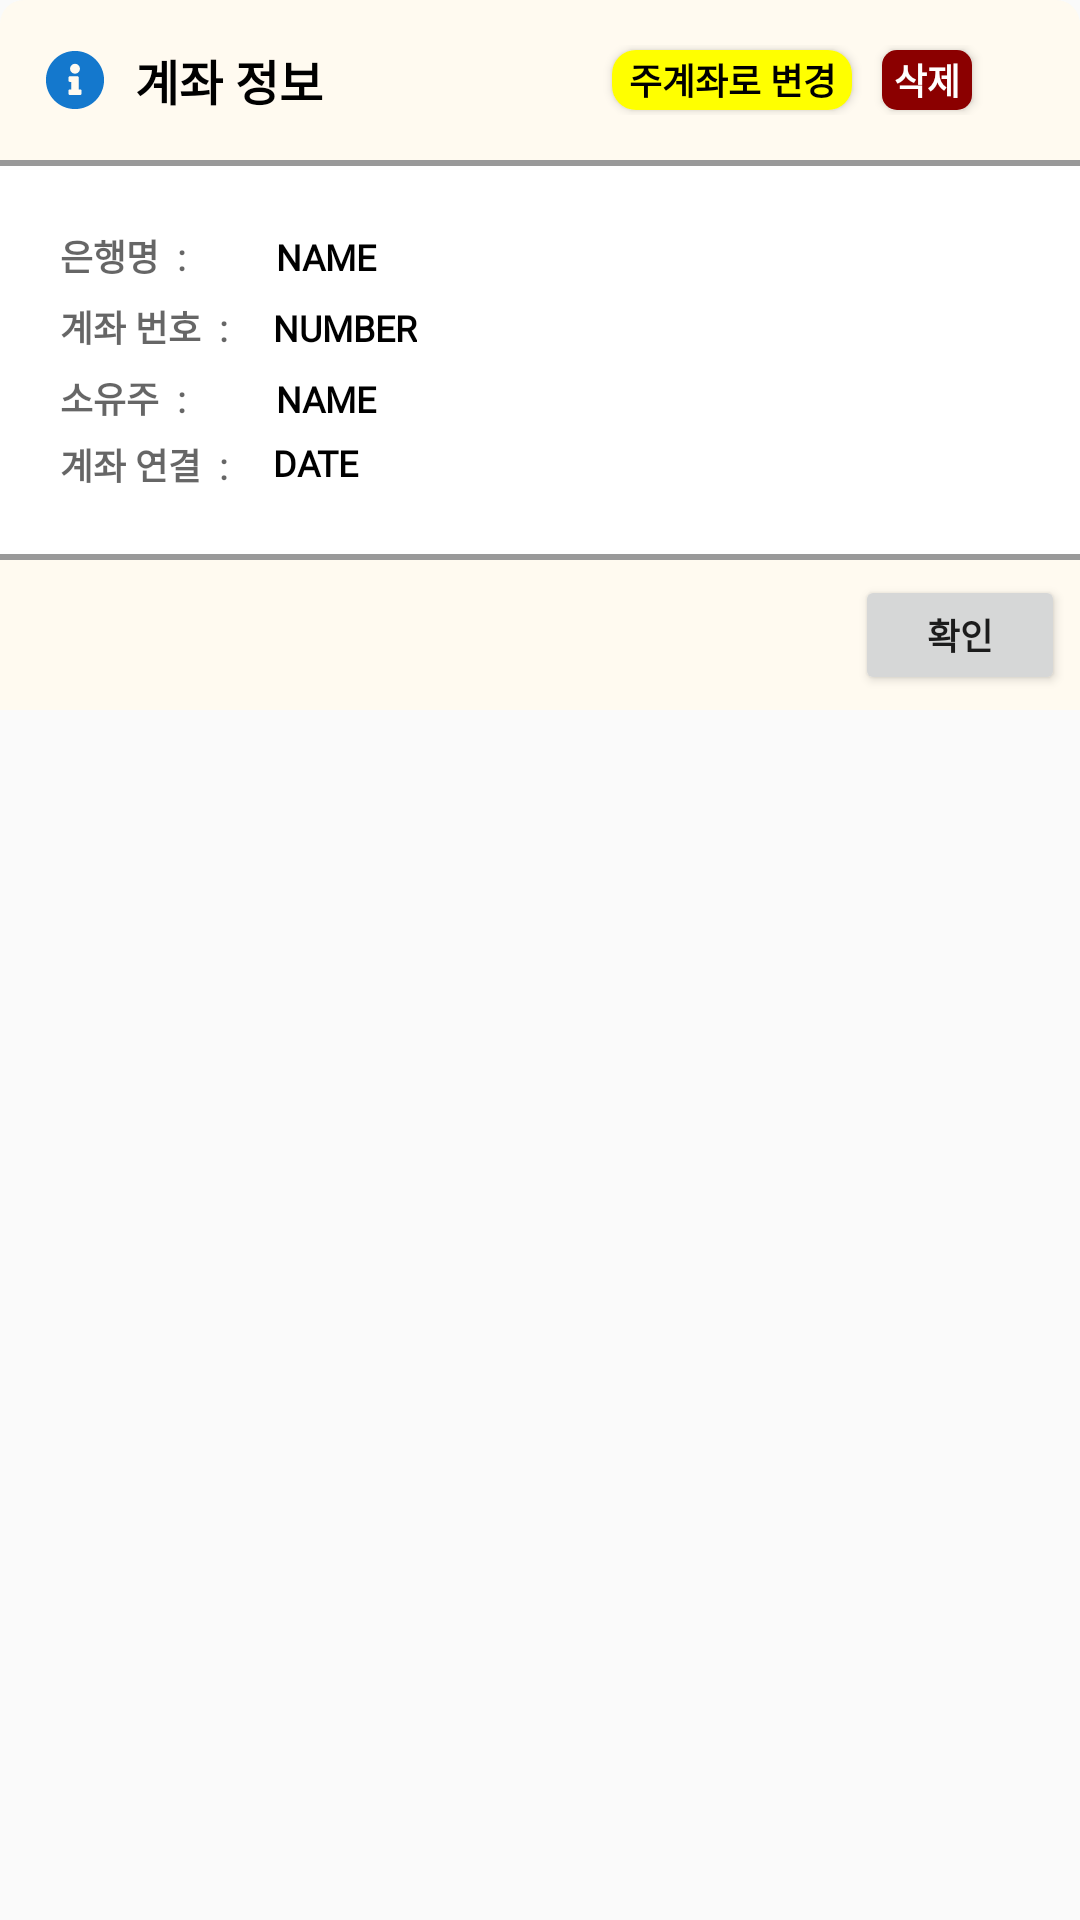

Point at icon controls on the screen. Image size 1080*1920, points as [x,y].
info circle: [75,80]
